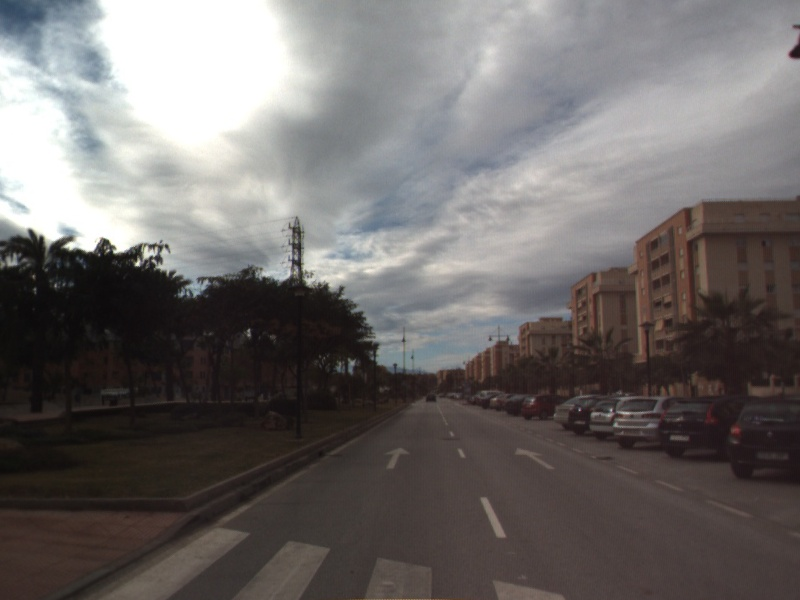STRAIGHT: (513, 446, 557, 471), (382, 445, 412, 471)
